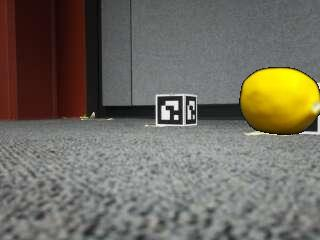lemon: (242, 68, 320, 133)
